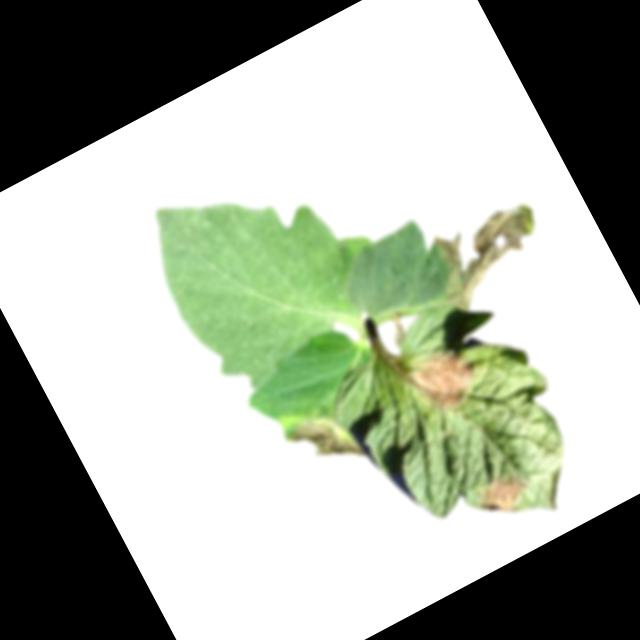Late_blight: (415, 189, 560, 319), (269, 390, 366, 490), (396, 335, 487, 423), (471, 464, 540, 529)
